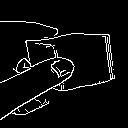cube: (22, 22, 119, 97)
